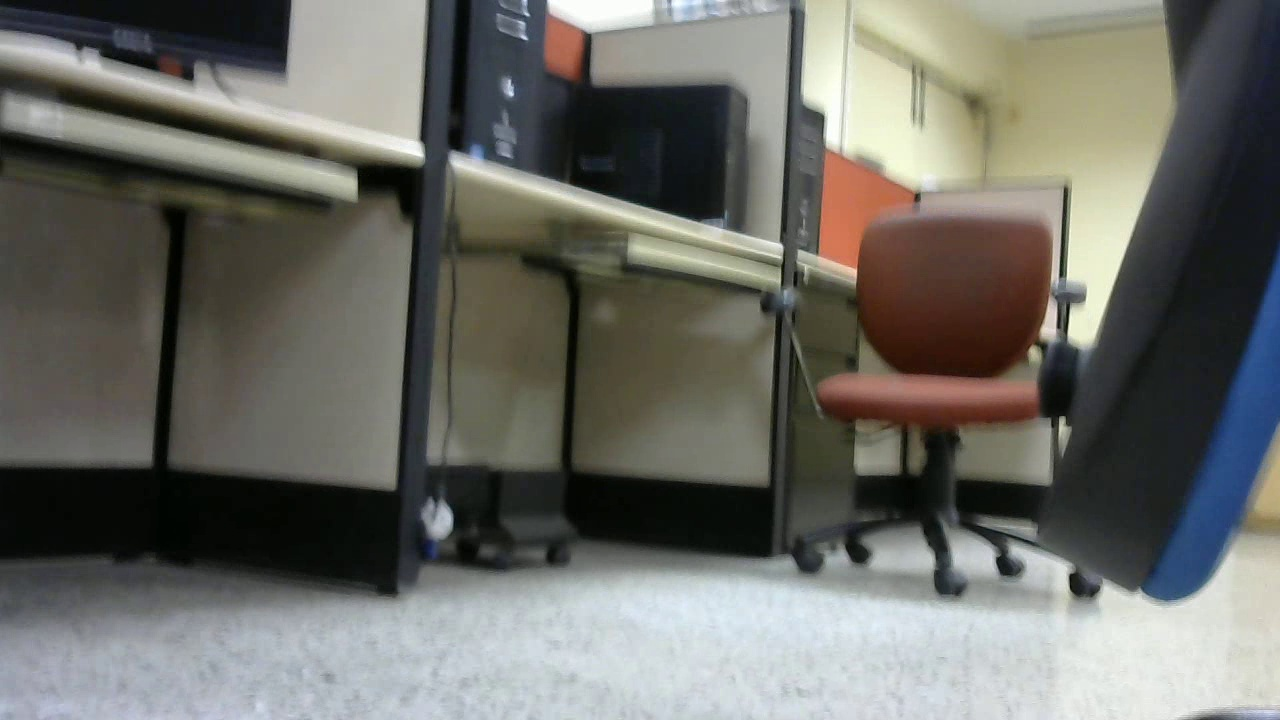chair: (764, 213, 1107, 612)
